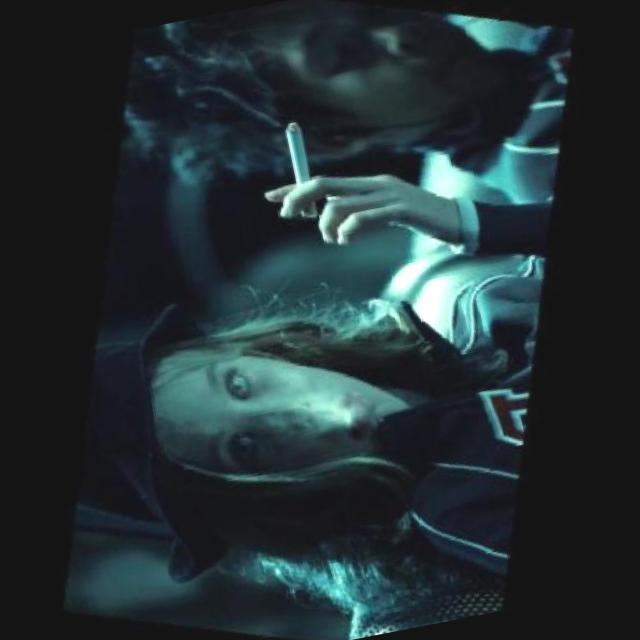cigarette: (255, 111, 348, 228)
